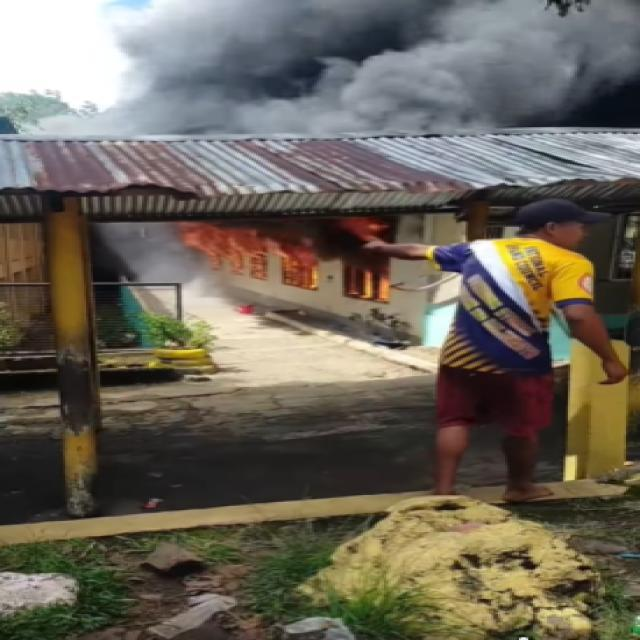Fire: (136, 206, 404, 300)
Smoke: (81, 0, 640, 142)
